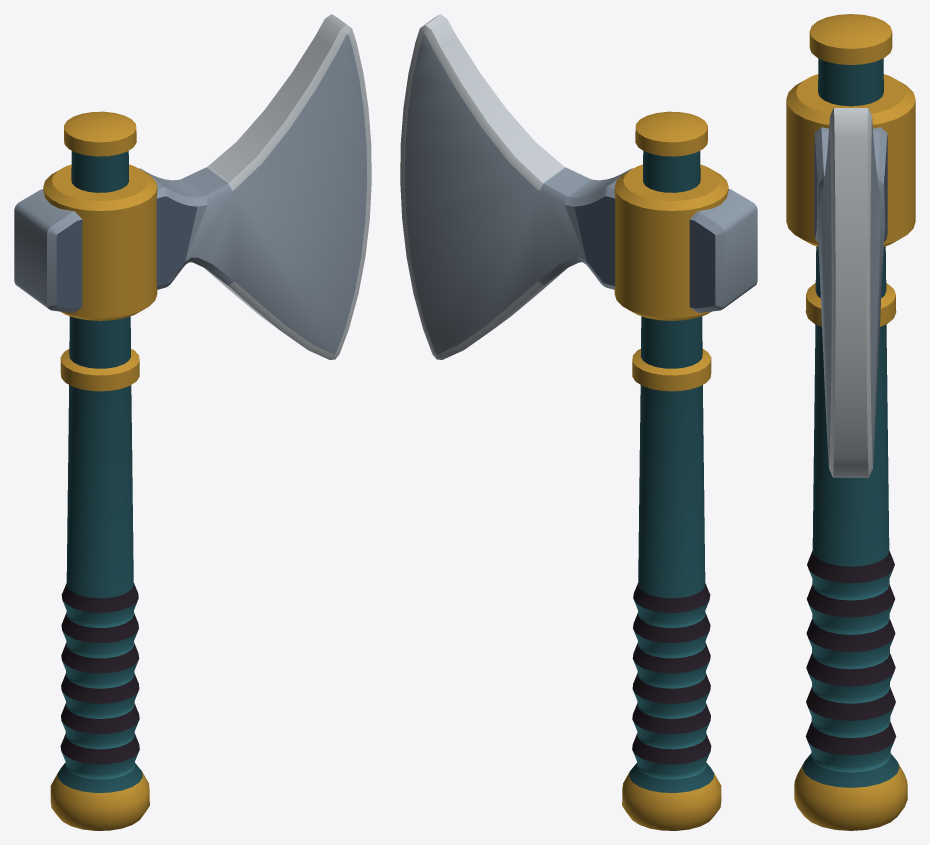
File: Axe_17.glb
3 renders of one model, left to right at view 1: azimuth 30°, elevation 25°; view 2: azimuth 150°, elevation 25°; view 3: azimuth 270°, elevation 25°, orthographic. The views are drawn at different scales.
Visible parts, largest first — view 1: Axe_17; view 2: Axe_17; view 3: Axe_17.
Boxes of the visible parts, x1=… form: Axe_17: x1=14, y1=14, x2=371, y2=830; Axe_17: x1=400, y1=14, x2=757, y2=830; Axe_17: x1=786, y1=14, x2=915, y2=830.
Bounding box in the file's own units: 2.22 × 4.66 × 0.656.
